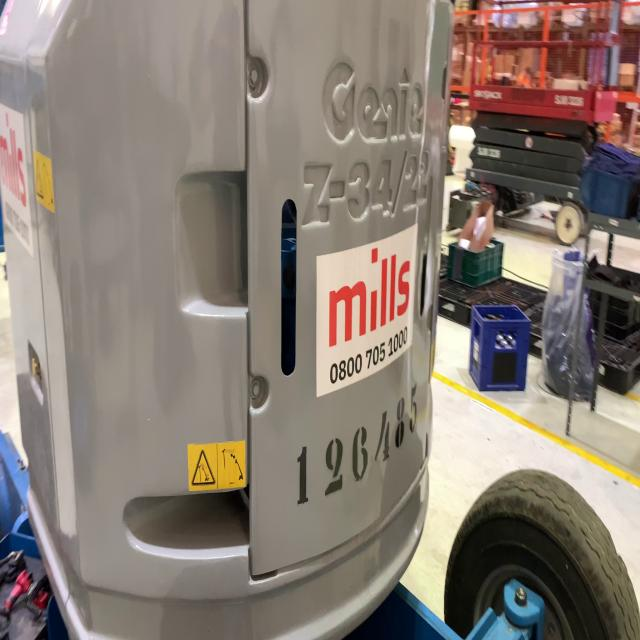Adesivos: (315, 219, 420, 401)
